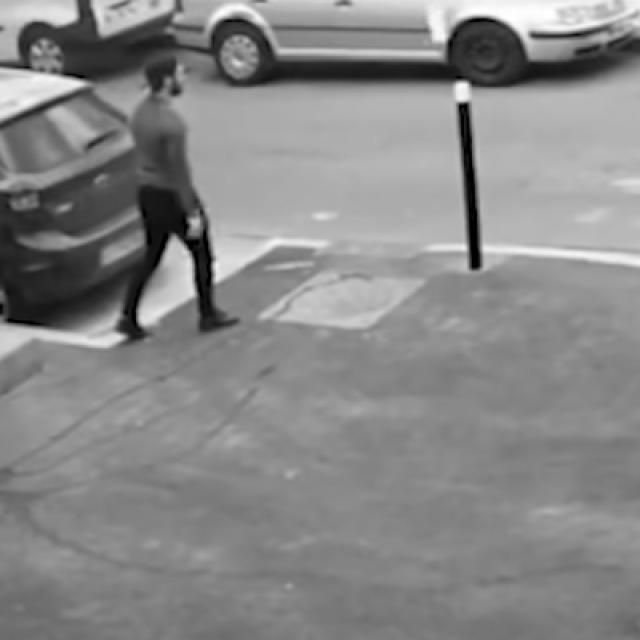Invader: (114, 53, 240, 339)
